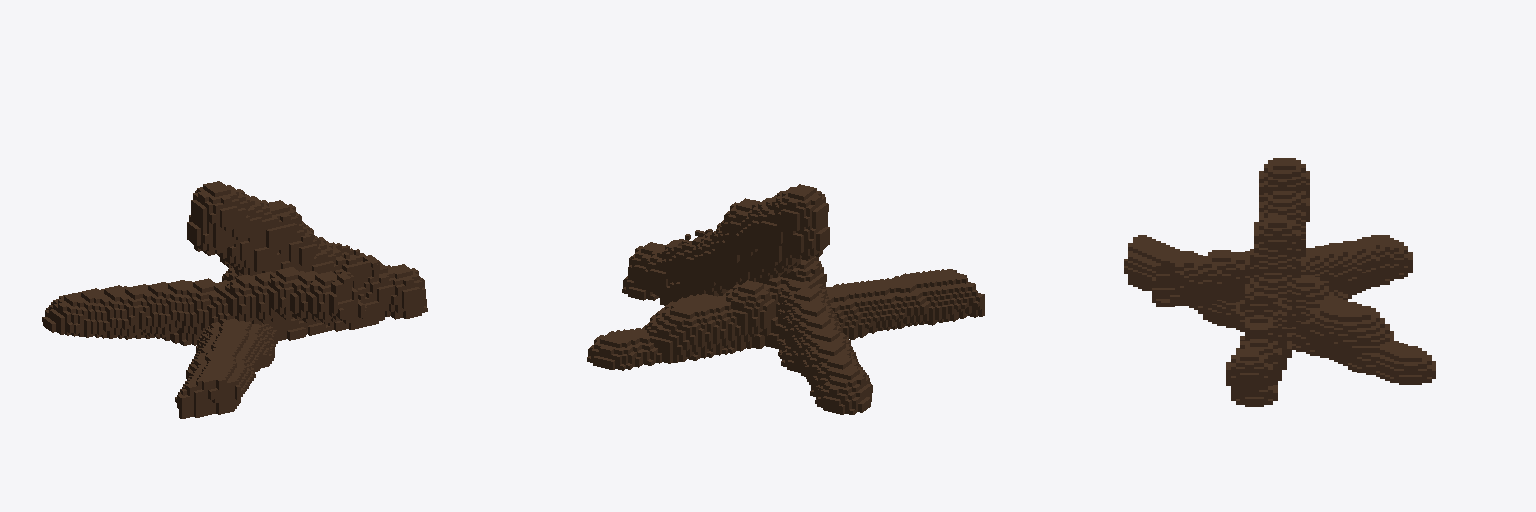
The picture shows the model from 3 angles: view 1: azimuth 30°, elevation 25°; view 2: azimuth 150°, elevation 25°; view 3: azimuth 270°, elevation 25°; orthographic projection.
Visible parts, largest first — view 1: object 1; view 2: object 1; view 3: object 1.
Boxes of the visible parts, x1=… form: object 1: x1=42, y1=181, x2=427, y2=418; object 1: x1=587, y1=184, x2=984, y2=414; object 1: x1=1124, y1=158, x2=1435, y2=406.
Bounding box in the file's own units: 7.6 × 3.6 × 6.7.
1 materials, 1 textured.